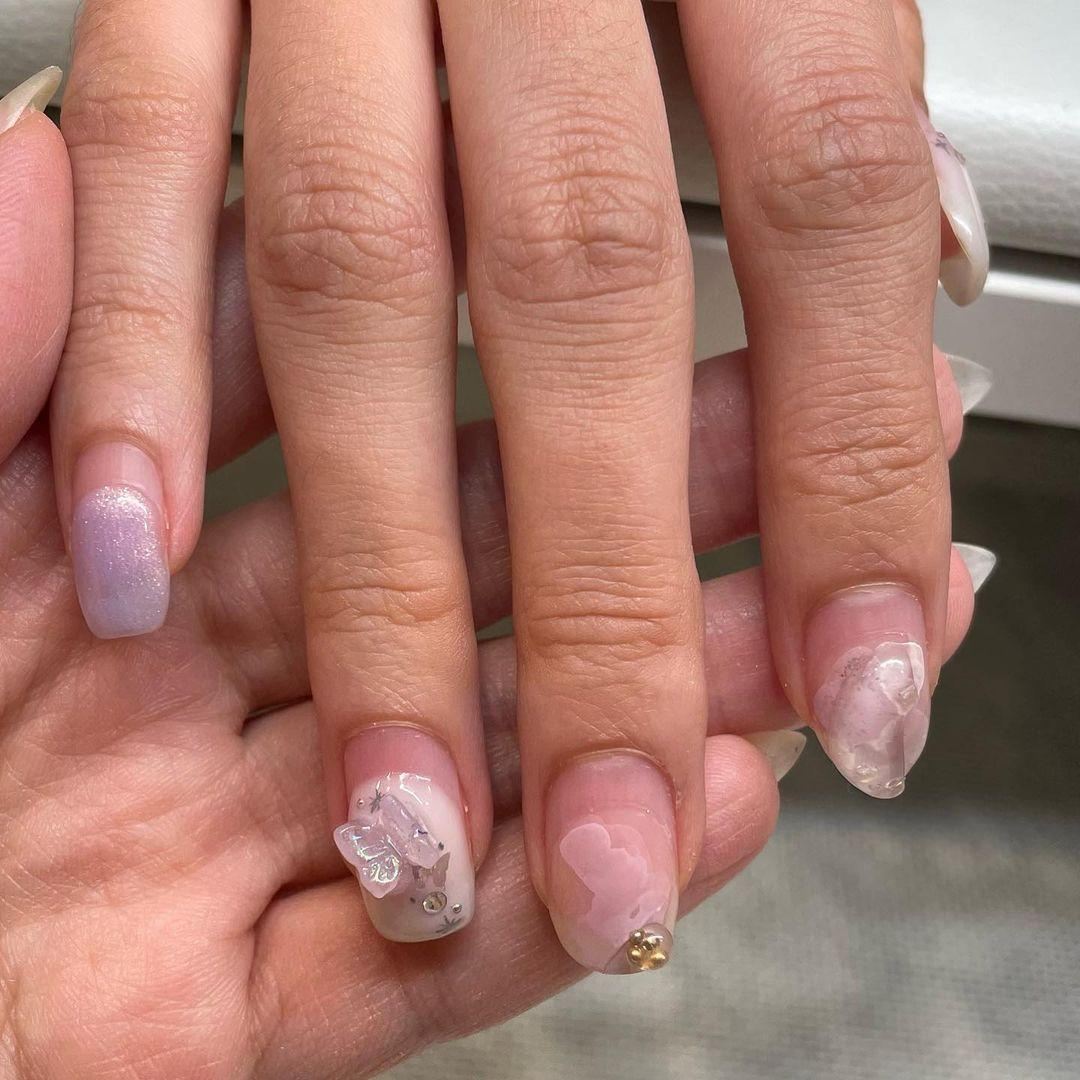nail: (541, 746, 681, 975), (332, 721, 476, 943), (799, 579, 931, 799), (68, 436, 171, 639), (924, 124, 990, 306), (0, 63, 63, 134)
